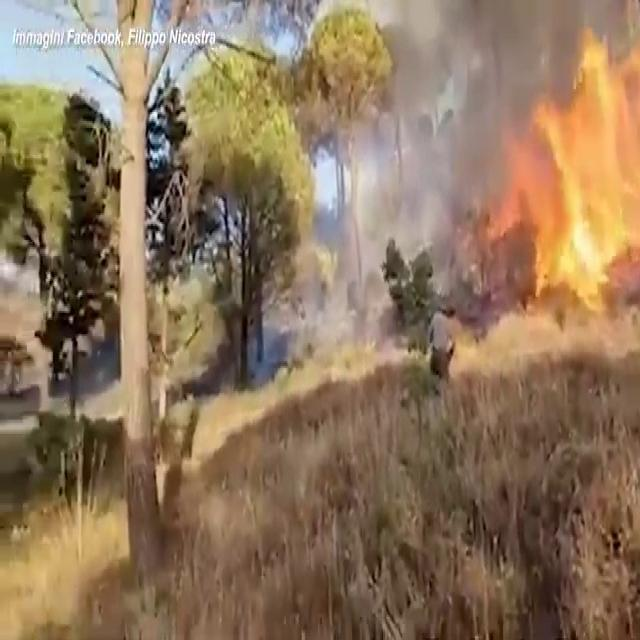Fire: (507, 2, 640, 334)
Smoke: (370, 0, 540, 268)
